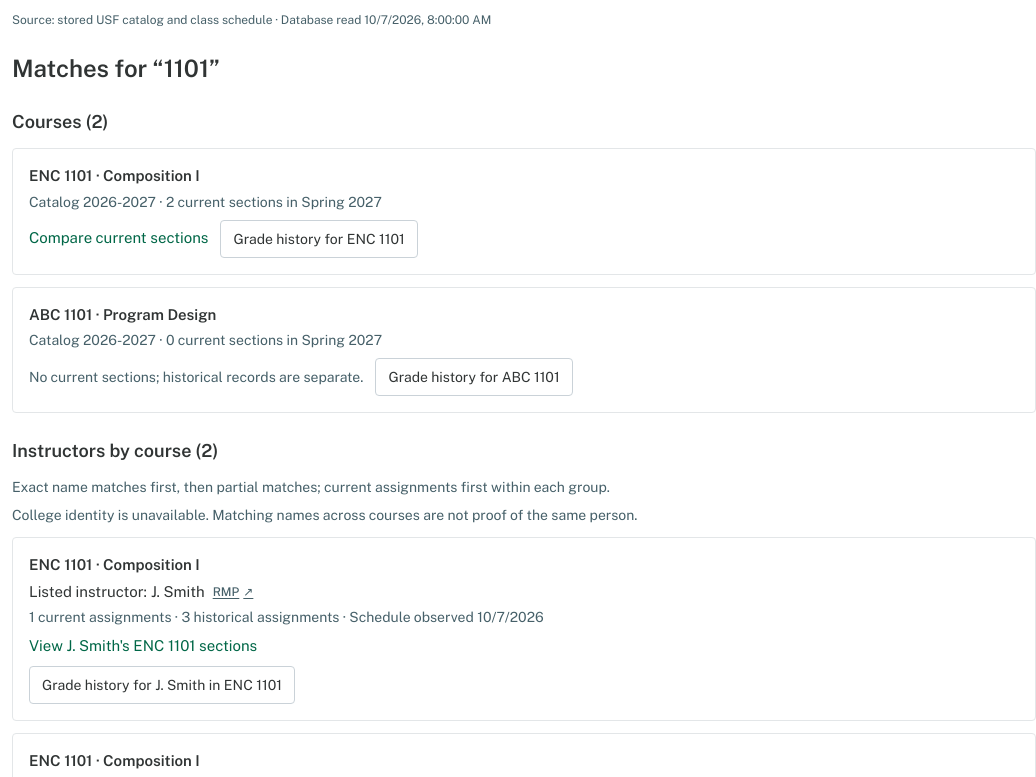
Scenario: expanded search › preserves unavailable evidence states
Click the button "Grade history for ENC 1101". click: x=319, y=238
box: [220,220,418,258]
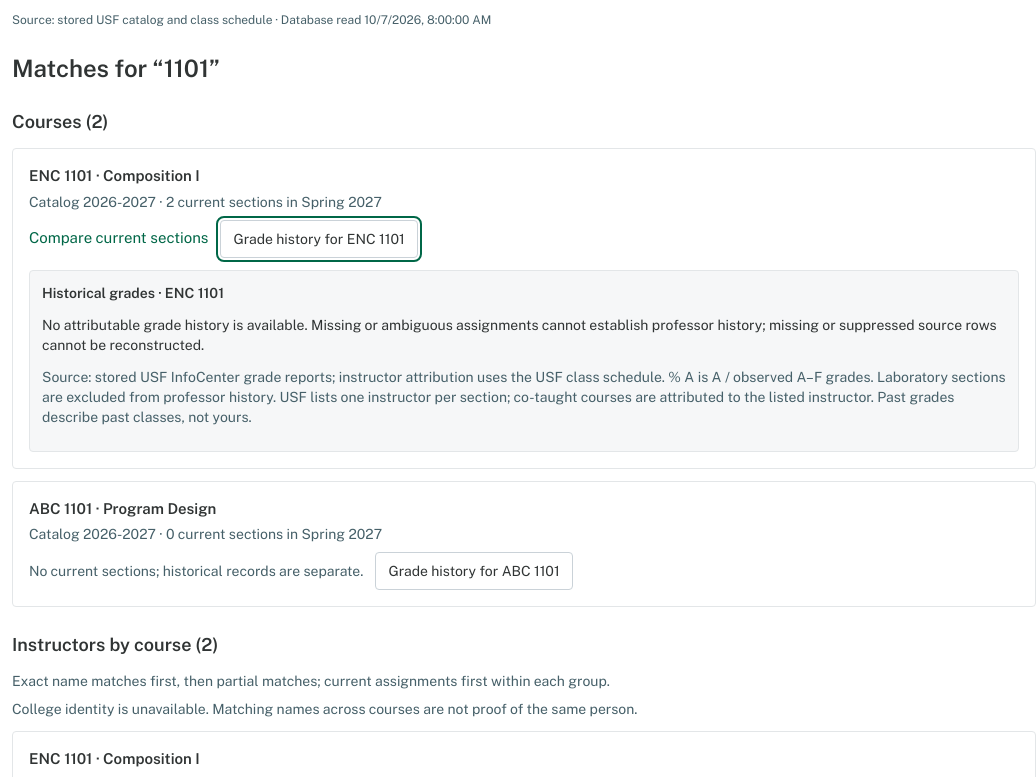
Result: the text "No attributable grade history" is shown at [42,316,996,352]
